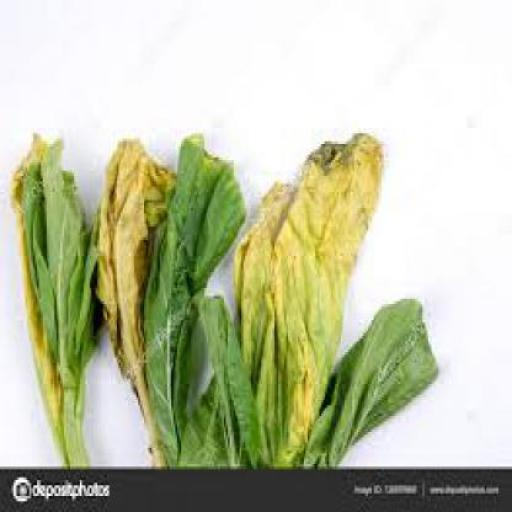biodegradable: (232, 128, 380, 464), (140, 134, 242, 464), (10, 126, 101, 462), (296, 293, 436, 461), (90, 136, 161, 458), (194, 291, 261, 461), (175, 373, 236, 464)
